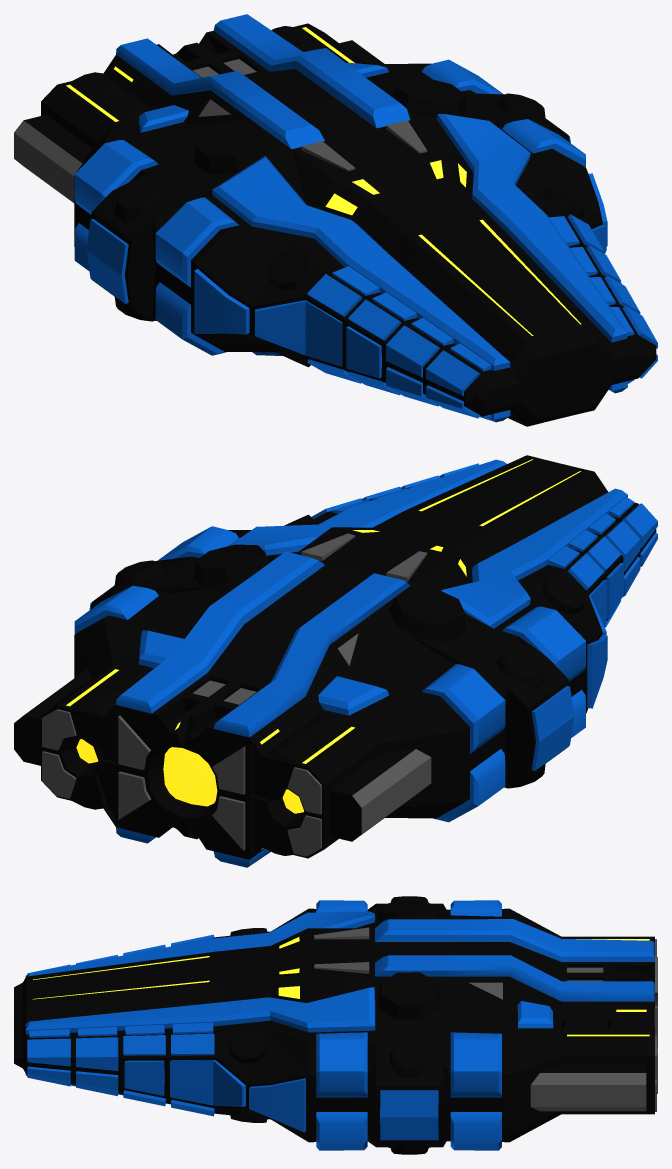
File: 01_ship_heavy_abrundonell.glb
The picture shows the model from 3 angles, top to bottom: view 1: azimuth 30°, elevation 25°; view 2: azimuth 150°, elevation 25°; view 3: azimuth 270°, elevation 25°; orthographic projection. The views are drawn at different scales.
Parts seen in each view (by area): view 1: 01_ship_heavy_abrundonell; view 2: 01_ship_heavy_abrundonell; view 3: 01_ship_heavy_abrundonell.
Boxes of the visible parts, x1=… form: 01_ship_heavy_abrundonell: x1=14, y1=14, x2=657, y2=426; 01_ship_heavy_abrundonell: x1=14, y1=455, x2=657, y2=867; 01_ship_heavy_abrundonell: x1=14, y1=896, x2=657, y2=1154.
Size of the model in its own units: 0.6787 by 0.2854 by 1.01.
